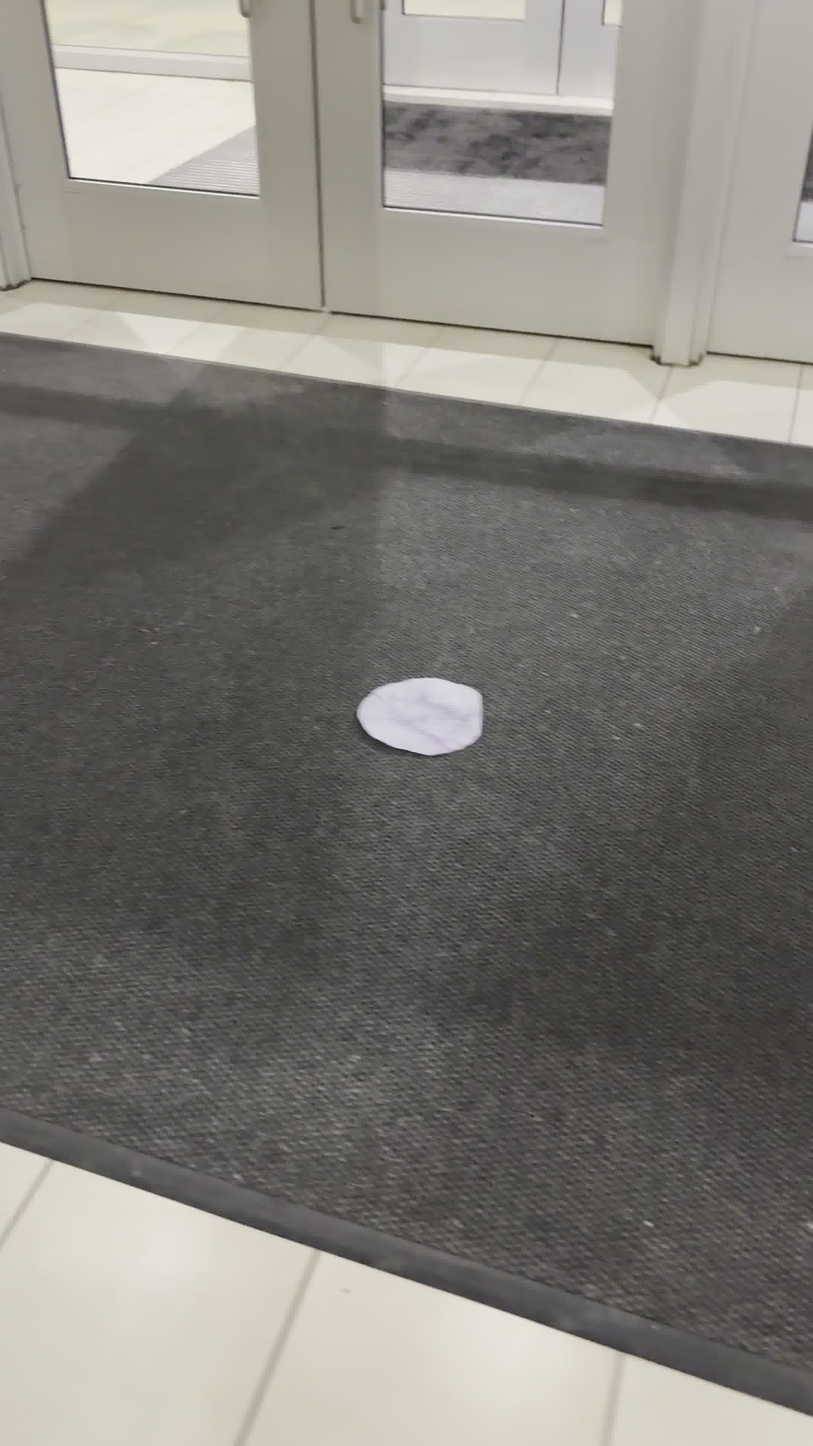Target: (356, 677, 483, 756)
